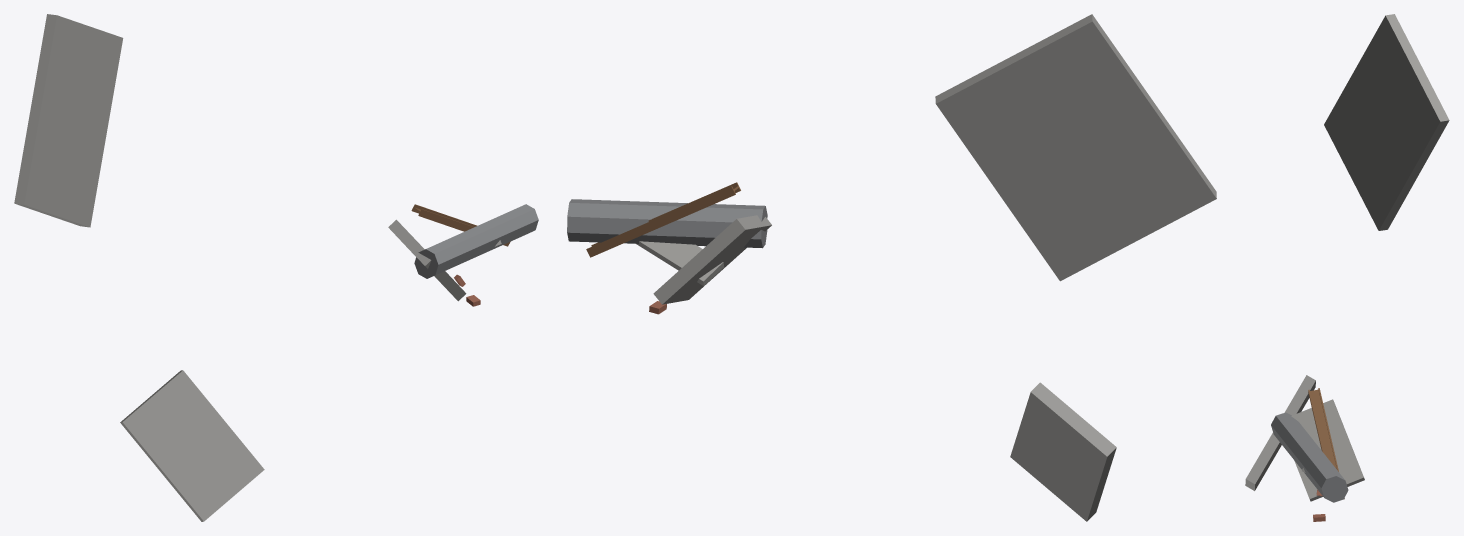
File: batch_RUBBLE_p001_p000.glb
3 views of the same model, side by side, from view 1: azimuth 30°, elevation 25°; view 2: azimuth 150°, elevation 25°; view 3: azimuth 270°, elevation 25° (orthographic). The views are drawn at different scales.
Parts seen in each view (by area): view 1: SAR_Building_URB_001_CollapsedSlab_02.001; view 2: SAR_Building_URB_001_CollapsedSlab_02.001; view 3: SAR_Building_URB_001_CollapsedSlab_02.001.
Part boxes in pixels (x1,y1,x2,y2): SAR_Building_URB_001_CollapsedSlab_02.001: [14, 14, 538, 521]; SAR_Building_URB_001_CollapsedSlab_02.001: [567, 14, 1216, 521]; SAR_Building_URB_001_CollapsedSlab_02.001: [1245, 14, 1449, 521].
Bounding box in the file's own units: 12.3 × 10.74 × 4.5.
